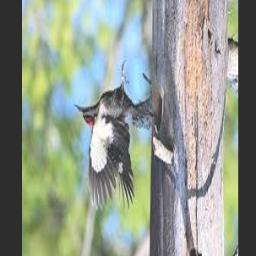Woodpecker: (74, 61, 156, 211)
